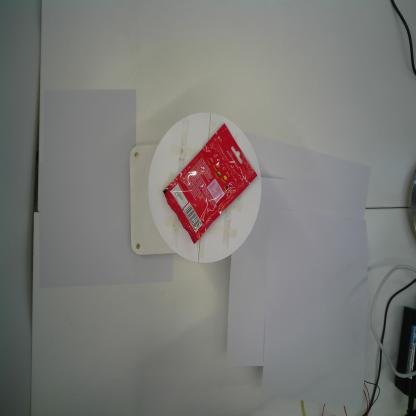Candy: (162, 122, 258, 245)
